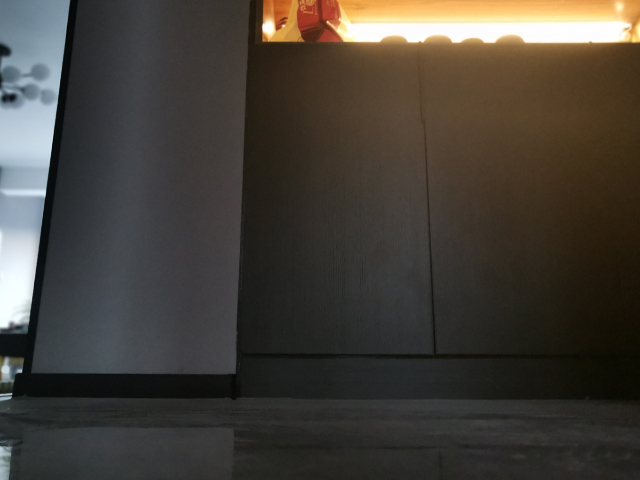cabinet: (244, 44, 640, 402)
